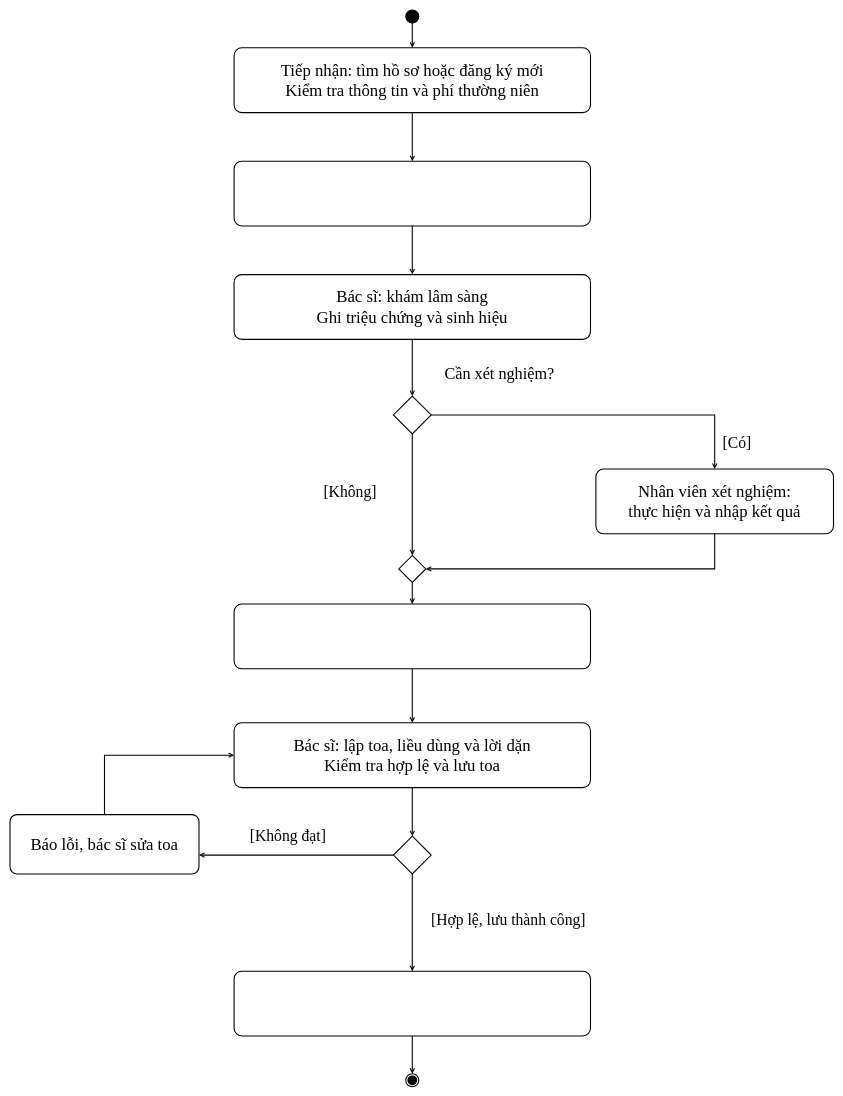
Some shapes in this 843 by 1096 pixel diagram are drawn without their labels. Here are the shapes that lost their labels. From the top down, the centre of each, then its label:
At (412,193): "Tiếp nhận: lập phiếu khám Gắn hồ sơ, bác sĩ và khoa".
At (412,636): "Bác sĩ: chẩn đoán và quyết định điều trị".
At (412,1003): "Dược sĩ: xem, in và hướng dẫn toa Bệnh nhân nhận toa thuốc".
